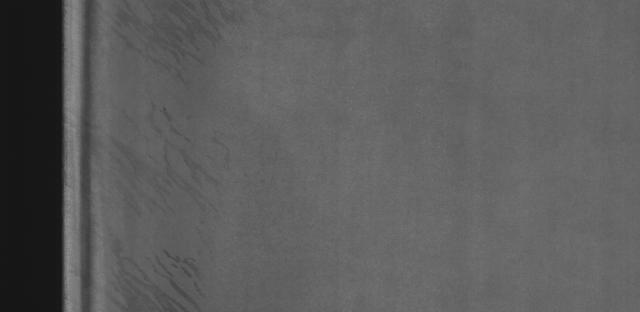water_spot: (112, 7, 251, 306)
